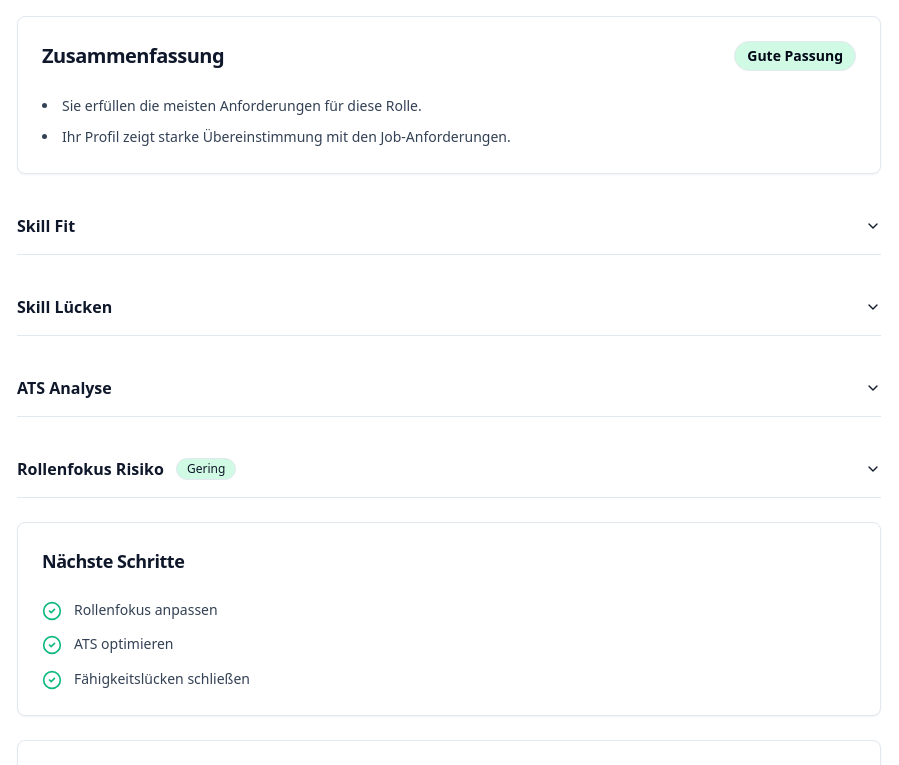
it: ResultsScreen › Skill Fit section › should display Must-Have requirements
This screenshot has width=899, height=765.
Click the button "Skill Fit".
click(46, 226)  # box [17,198,881,254]
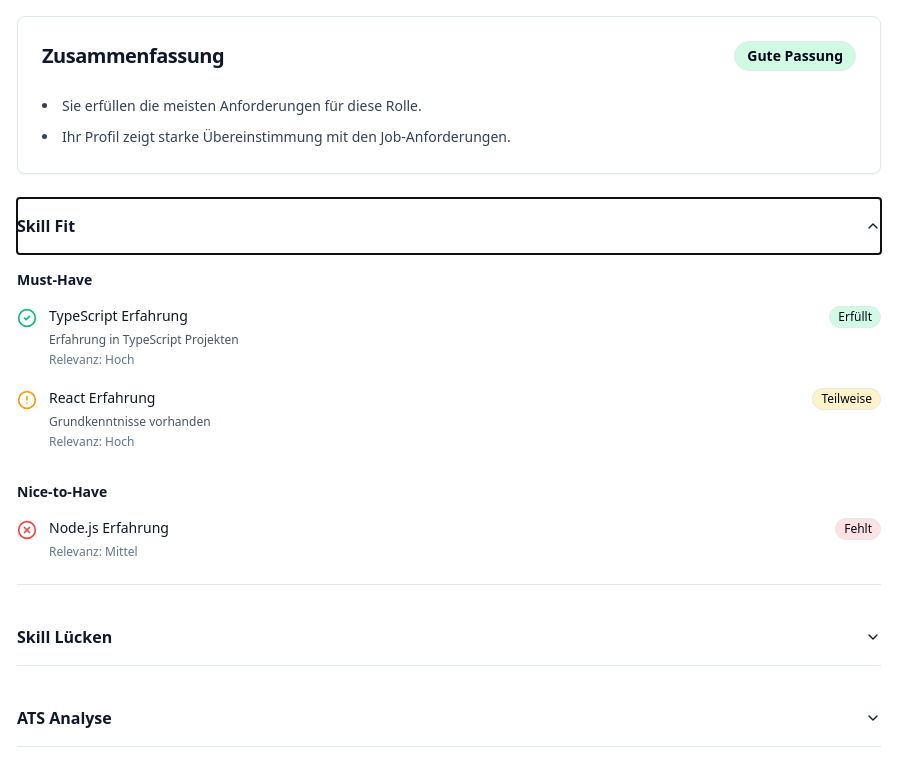
Now the heading "Must-Have" is shown, box [17,270,92,288]
Now the text "TypeScript Erfahrung" is shown, box [49,306,188,326]
Now the text "React Erfahrung" is shown, box [49,388,156,408]
